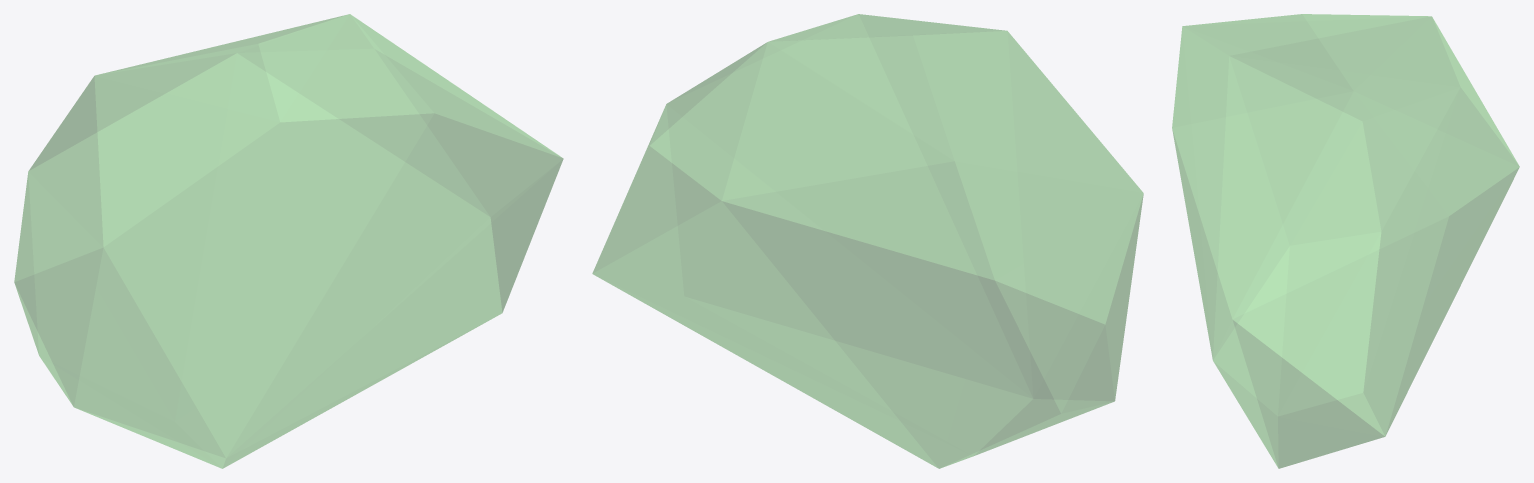
Rendered from RLEG_JOINT0_com_constraints.dae.
The picture shows the model from 3 angles, left to right: view 1: azimuth 30°, elevation 25°; view 2: azimuth 150°, elevation 25°; view 3: azimuth 270°, elevation 25°; orthographic projection. The views are drawn at different scales.
Parts seen in each view (by area): view 1: foo_004; view 2: foo_004; view 3: foo_004.
Part boxes in pixels (left/top/right/bottom): foo_004: left=14, top=14, right=563, bottom=468; foo_004: left=592, top=14, right=1143, bottom=468; foo_004: left=1172, top=14, right=1519, bottom=468.
Size of the model in its own units: 1.61 by 0.9423 by 1.28.
